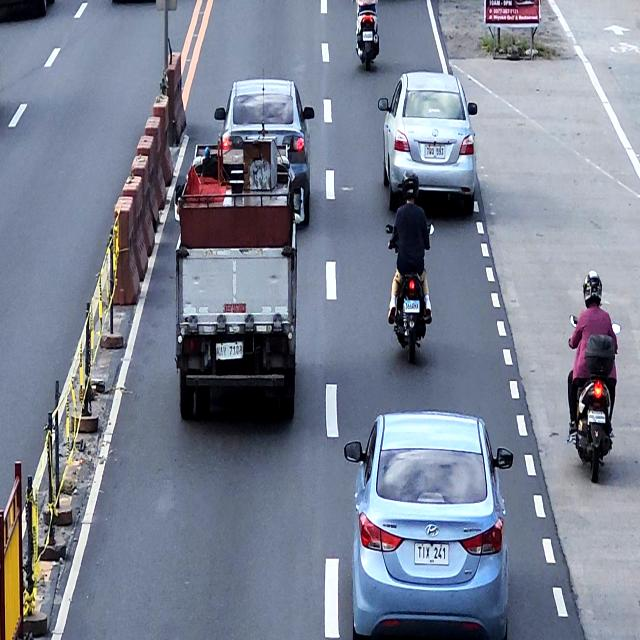Car: (344, 410, 514, 639), (214, 78, 314, 227), (378, 70, 478, 214)
License-Plate: (414, 543, 449, 566), (215, 342, 244, 359), (424, 144, 446, 160), (588, 410, 606, 424), (404, 300, 421, 313), (362, 31, 373, 41)
Motorcycle: (568, 315, 621, 483), (386, 222, 434, 363), (355, 2, 379, 70)
Truck: (174, 137, 298, 421)
